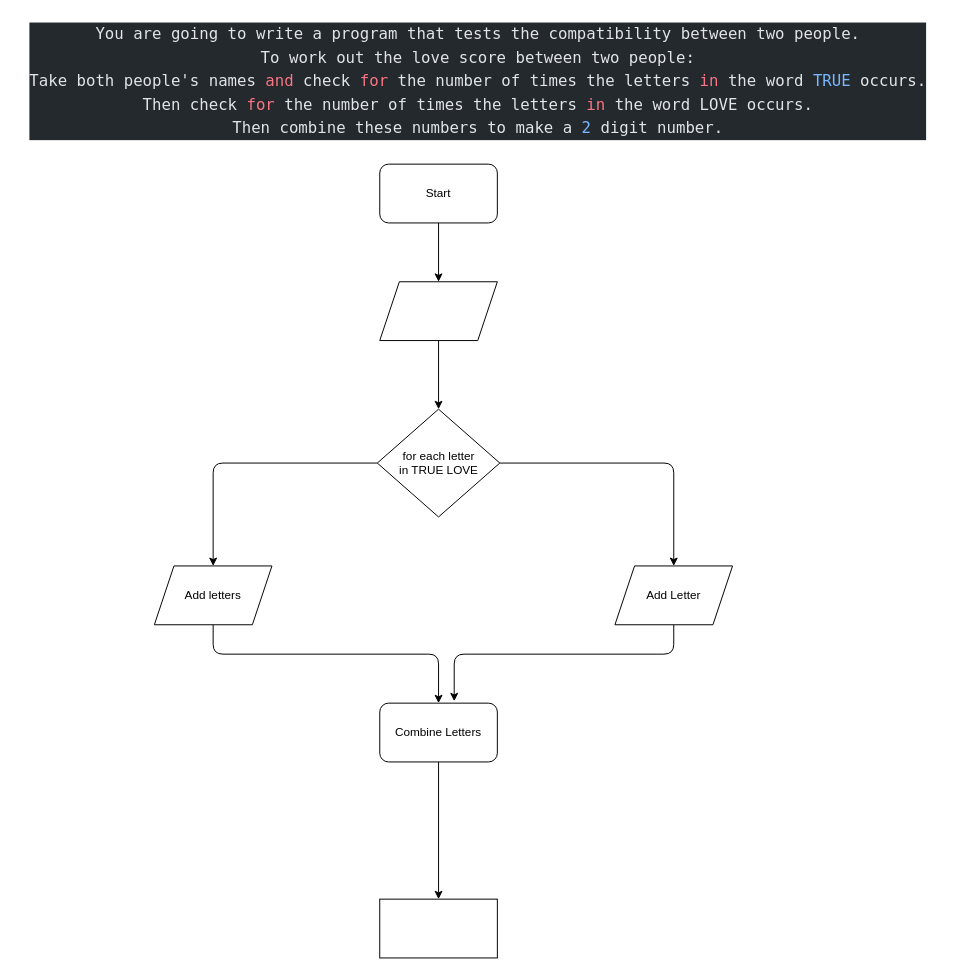
This 955x975 diagram has some shape labels left out. The shapes that lost their labels are listed below. From the top down, each one's centre as x and y in pixels, then its label:
(x=438, y=311): Input Boy & Girl name
(x=438, y=928): Stop
